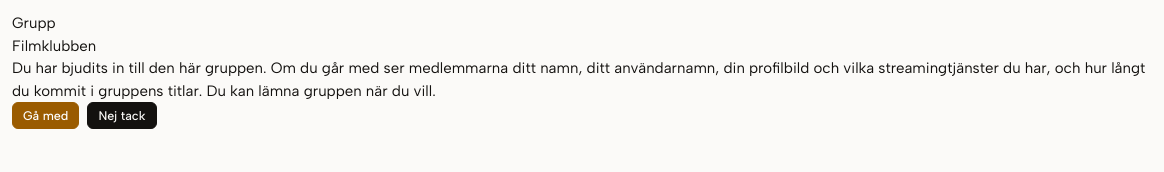
GroupPageClient — inbjudningslänken frågar innan den går med (SEC-2) › ett avslutat misslyckande visar felet i stället för kortet
Click the button "Gå med": (46, 116) [12,102,79,129]
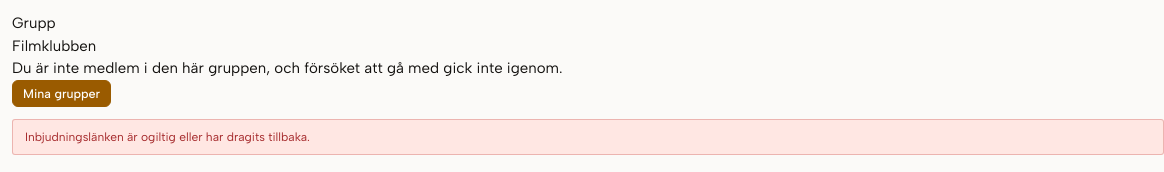
Now the text "försöket att gå med gick inte igenom" is shown, box [12,59,562,77]
